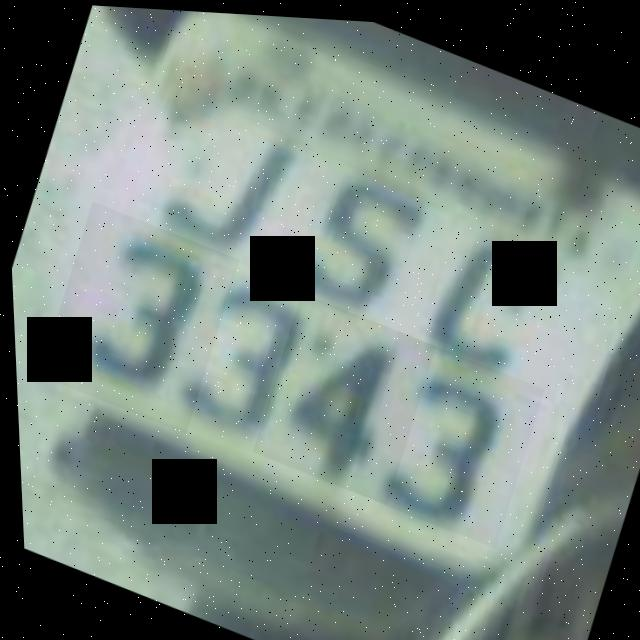3: (29, 198, 243, 434), (134, 241, 339, 468), (338, 323, 546, 545)
4: (243, 286, 438, 503)
J: (116, 77, 310, 280)
S: (258, 139, 431, 327)
